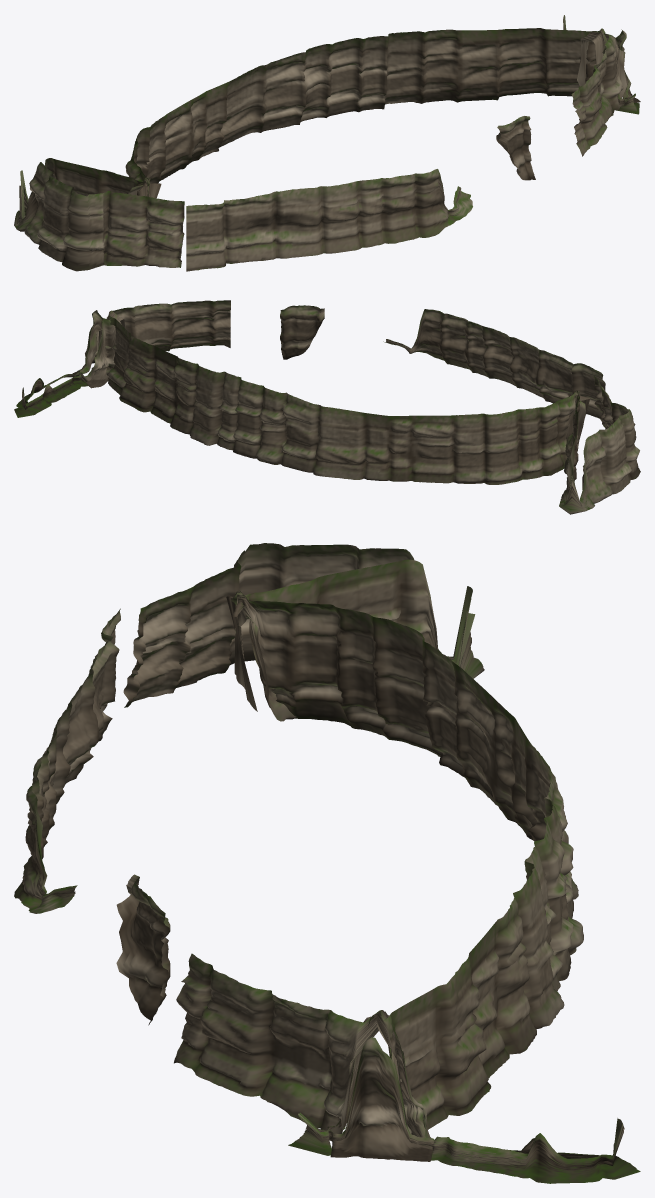
Rendered from TRN5_CliffFace_Plateau.fbx.
3 views of the same model, one above another, from view 1: azimuth 30°, elevation 25°; view 2: azimuth 150°, elevation 25°; view 3: azimuth 270°, elevation 25° (orthographic). The views are drawn at different scales.
Visible parts, largest first — view 1: TRN5_CliffFace_Plateau.001; view 2: TRN5_CliffFace_Plateau.001; view 3: TRN5_CliffFace_Plateau.001.
Boxes of the visible parts, x1,y1,x2,y2 form: TRN5_CliffFace_Plateau.001: (14,15,640,271); TRN5_CliffFace_Plateau.001: (14,300,640,514); TRN5_CliffFace_Plateau.001: (14,543,640,1183).
Size of the model in its own units: 165 by 20.32 by 82.18.
